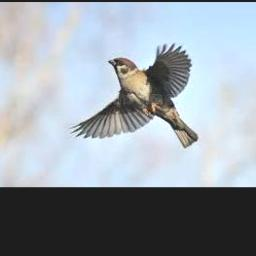Sparrow: (69, 42, 197, 148)
